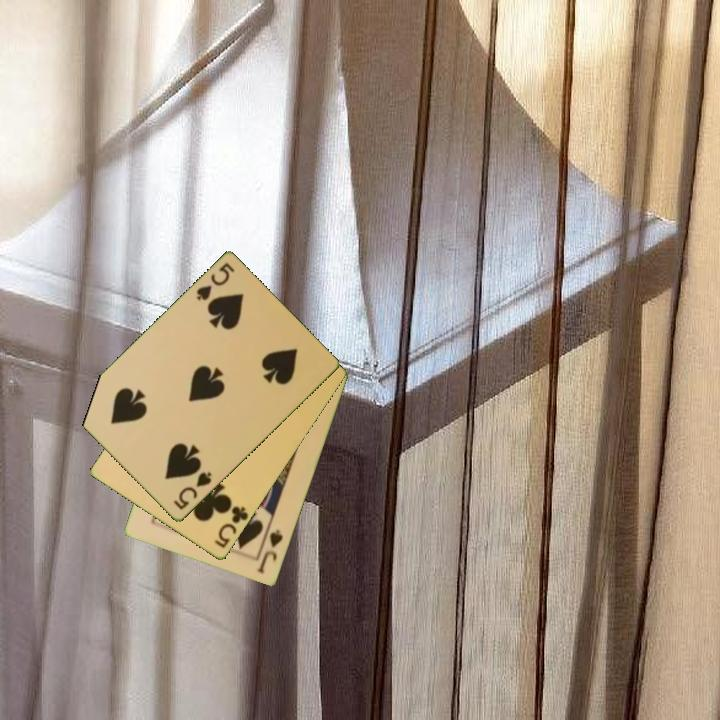5c: (211, 503, 251, 551)
5s: (170, 468, 215, 513), (193, 259, 237, 304)
Js: (254, 526, 286, 577)
